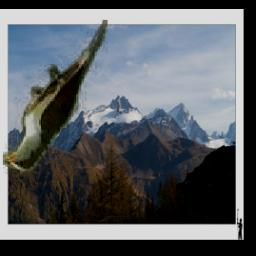Cuckoo: (3, 21, 108, 175)
